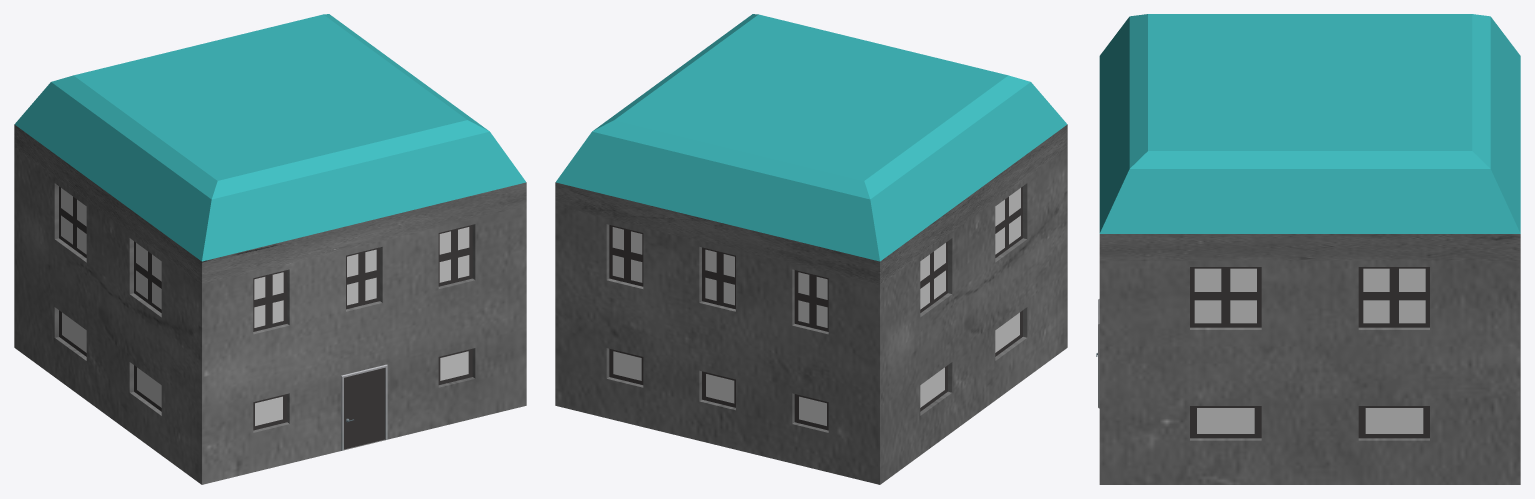
File: OLD_HOUSE_07.fbx
3 views of the same model, side by side, from view 1: azimuth 30°, elevation 25°; view 2: azimuth 150°, elevation 25°; view 3: azimuth 270°, elevation 25° (orthographic). The views are drawn at different scales.
Visible parts, largest first — view 1: OLD_HOUSE_07; view 2: OLD_HOUSE_07; view 3: OLD_HOUSE_07.
Boxes of the visible parts, x1,y1,x2,y2 form: OLD_HOUSE_07: (14, 14, 526, 484); OLD_HOUSE_07: (555, 14, 1067, 484); OLD_HOUSE_07: (1096, 14, 1520, 484).
Size of the model in its own units: 1029 by 845 by 1037.
